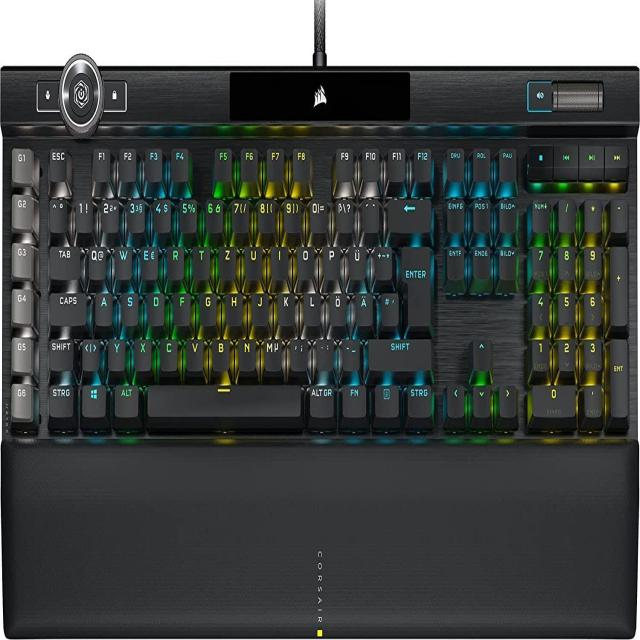0: (307, 196, 329, 232)
1: (74, 197, 93, 232)
2: (99, 197, 119, 233)
3: (125, 197, 145, 233)
4: (152, 197, 172, 233)
5: (177, 197, 197, 233)
6: (204, 197, 224, 233)
7: (230, 197, 249, 233)
8: (256, 197, 276, 233)
9: (281, 197, 302, 233)
a: (94, 289, 112, 324)
accent: (360, 195, 379, 232)
ae: (354, 289, 373, 325)
alt-left: (112, 381, 139, 416)
altgr-right: (307, 383, 335, 417)
b: (210, 335, 229, 370)
c: (158, 335, 177, 370)
caret: (48, 196, 67, 232)
comma: (289, 335, 309, 370)
d: (146, 290, 165, 325)
del: (386, 196, 431, 232)
e: (139, 244, 158, 279)
enter: (400, 241, 431, 327)
f: (172, 289, 190, 324)
g: (198, 289, 216, 324)
h: (224, 289, 242, 324)
hash: (379, 290, 398, 325)
i: (269, 243, 288, 278)
j: (250, 290, 268, 325)
k: (276, 290, 295, 325)
keyboard: (0, 126, 639, 438)
l: (303, 289, 320, 325)
less: (80, 336, 100, 371)
m: (263, 336, 283, 372)
minus: (339, 336, 359, 370)
n: (237, 336, 256, 370)
o: (296, 242, 315, 278)
oe: (328, 289, 347, 325)
p: (322, 243, 341, 278)
plus: (371, 243, 392, 280)
point: (314, 336, 333, 370)
q: (87, 244, 106, 279)
r: (165, 242, 184, 278)
s: (119, 289, 138, 324)
shift-left: (47, 336, 73, 370)
shift-lock: (48, 289, 87, 324)
shift-right: (366, 335, 432, 369)
space: (145, 381, 304, 418)
ss: (334, 197, 355, 233)
strg-left: (47, 382, 75, 417)
strg-right: (405, 382, 433, 418)
t: (191, 243, 210, 278)
tab: (48, 242, 80, 278)
u: (244, 243, 262, 279)
ue: (347, 242, 366, 279)
v: (184, 336, 203, 370)
w: (113, 243, 132, 279)
x: (133, 336, 151, 369)
y: (107, 336, 125, 370)
z: (217, 243, 236, 278)
